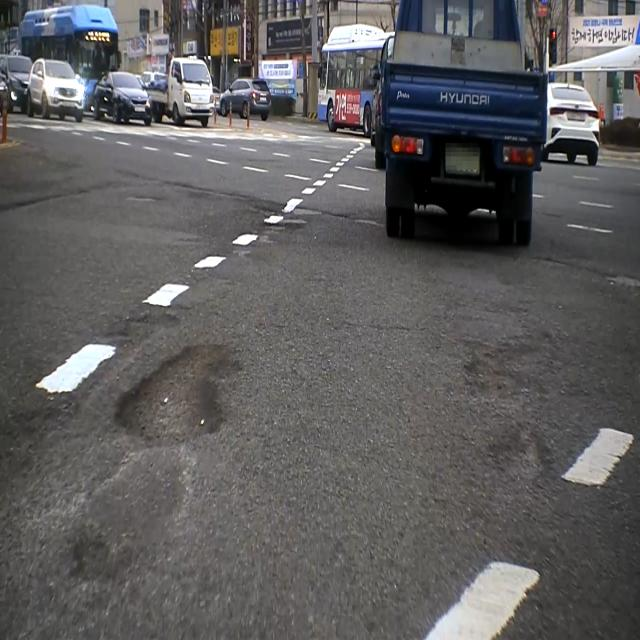Pothole: (113, 339, 242, 447), (458, 337, 546, 400), (69, 532, 141, 590), (488, 424, 551, 489)
